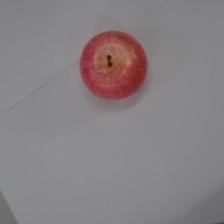red: (79, 29, 149, 101)
